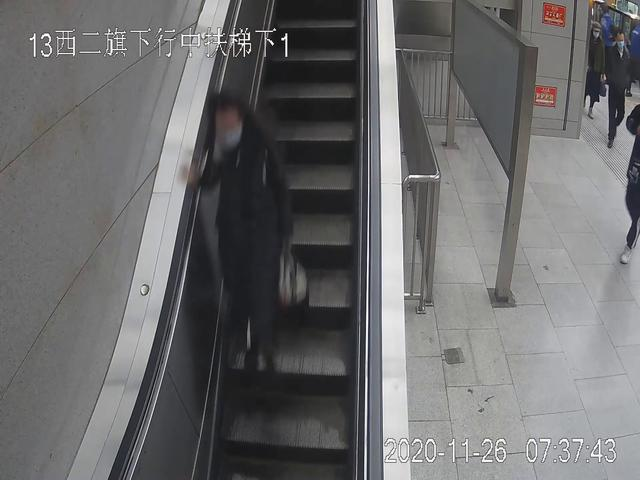person: (178, 92, 297, 388), (604, 33, 630, 144), (584, 23, 605, 114)
